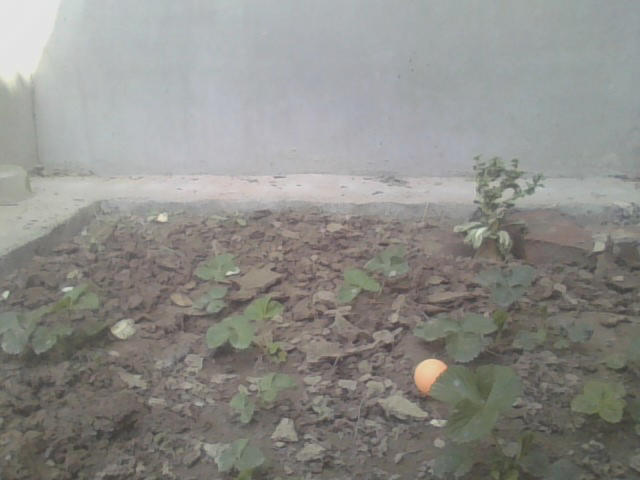ball: (413, 357, 449, 396)
